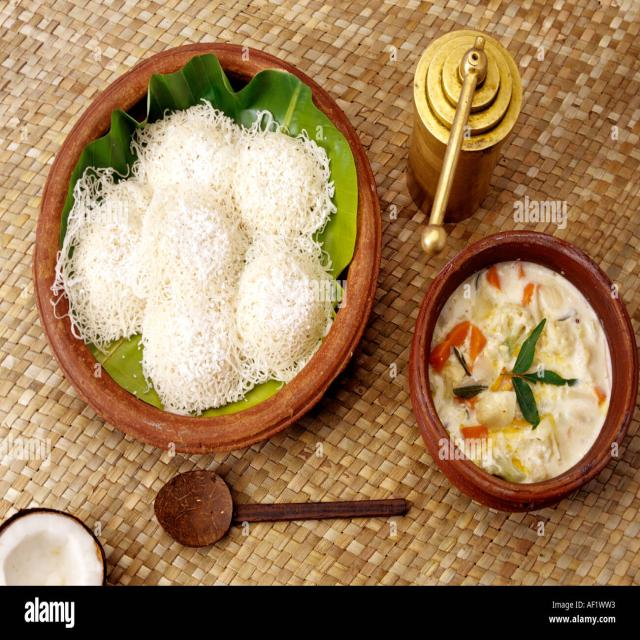IDIYAPPAM: (61, 112, 337, 416)
KURMA: (414, 246, 606, 497)
